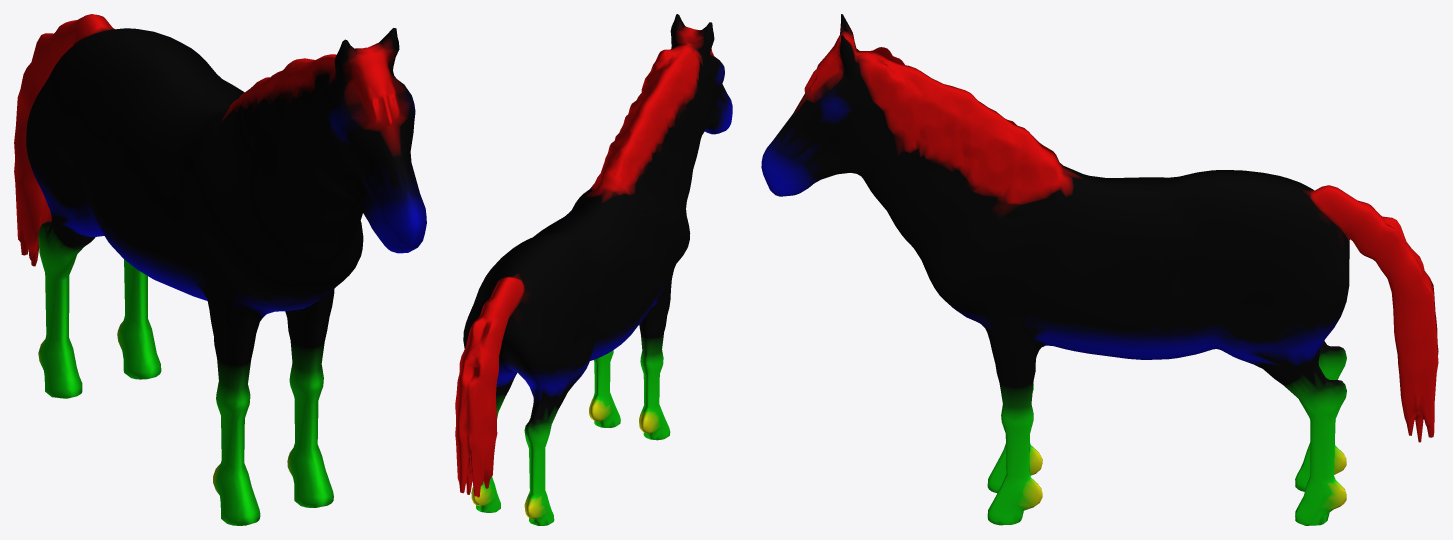
Rendered from grainfields-horse.glb.
3 views of the same model, side by side, from view 1: azimuth 30°, elevation 25°; view 2: azimuth 150°, elevation 25°; view 3: azimuth 270°, elevation 25° (orthographic). The views are drawn at different scales.
Parts seen in each view (by area): view 1: horse; view 2: horse; view 3: horse.
Boxes of the visible parts, x1,y1,x2,y2 form: horse: (14, 14, 426, 525); horse: (455, 14, 732, 525); horse: (761, 14, 1438, 525).
Size of the model in its own units: 0.6155 by 1.97 by 2.54.
